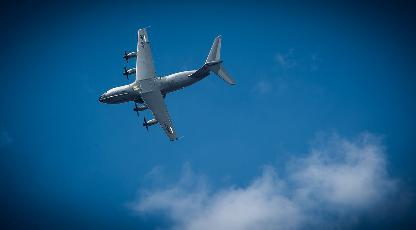A400M: (97, 27, 236, 139)
